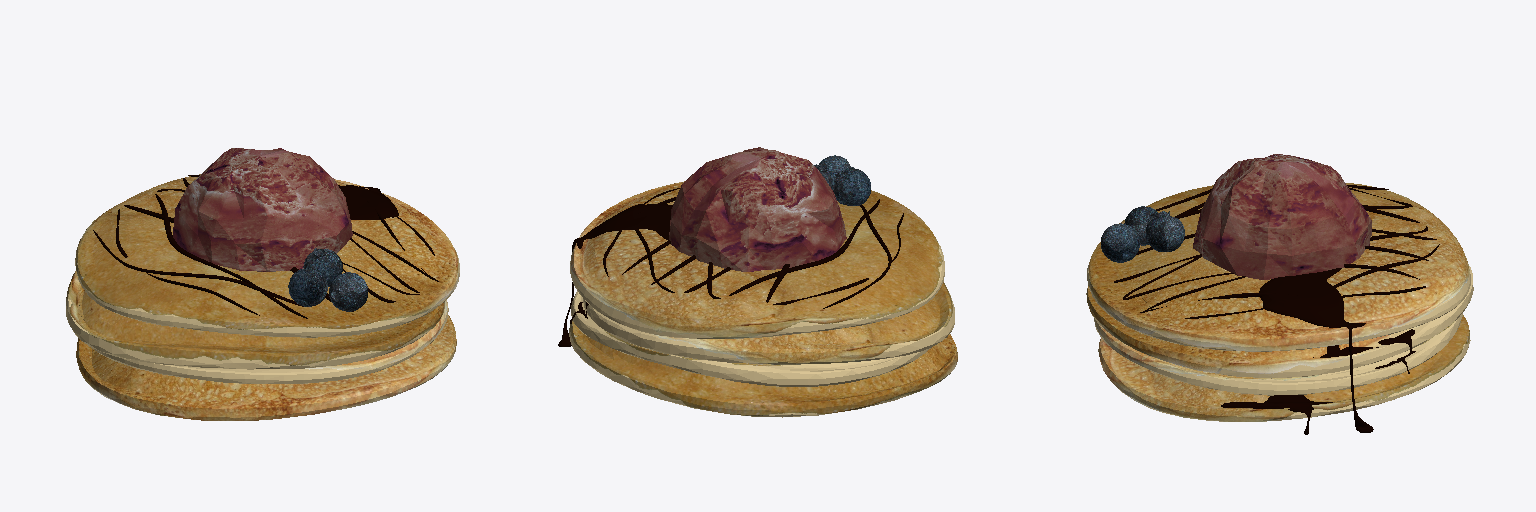
3 renders of one model, left to right at view 1: azimuth 30°, elevation 25°; view 2: azimuth 150°, elevation 25°; view 3: azimuth 270°, elevation 25°, orthographic.
Parts seen in each view (by area): view 1: Sphere.016, Sphere129, Sphere.013, Sphere.015, Sphere.014, Plane_Plane.002, Plane.004, Sphere.005_Sphere.001_Sphere.005_Sphere.005, Sphere.005_Sphere.001_Sphere.005_Sphere.000, Sphere.005_Sphere.001_Sphere.005_Sphere.001; view 2: Sphere.016, Sphere129, Sphere.013, Sphere.015, Sphere.014, Plane_Plane.002, Plane.004, Sphere.005_Sphere.001_Sphere.005_Sphere.005; view 3: Sphere.016, Sphere129, Sphere.013, Sphere.015, Sphere.014, Plane.004, Plane_Plane.002, Sphere.005_Sphere.001_Sphere.005_Sphere.000, Sphere.005_Sphere.001_Sphere.005_Sphere.001, Cylinder.009, Sphere.005_Sphere.001_Sphere.005_Sphere.005.
Part boxes in pixels (x1,y1,x2,y2): Sphere.016: (75, 174, 459, 337); Sphere129: (173, 148, 352, 271); Sphere.013: (76, 315, 456, 420); Sphere.015: (66, 271, 444, 369); Sphere.014: (92, 300, 448, 383); Plane_Plane.002: (93, 175, 438, 318); Plane.004: (339, 185, 398, 219); Sphere.005_Sphere.001_Sphere.005_Sphere.005: (288, 265, 327, 306); Sphere.005_Sphere.001_Sphere.005_Sphere.000: (329, 272, 367, 311); Sphere.005_Sphere.001_Sphere.005_Sphere.001: (303, 248, 342, 286); Sphere.016: (570, 181, 944, 338); Sphere129: (669, 147, 846, 271); Sphere.013: (569, 320, 957, 417); Sphere.015: (583, 282, 954, 364); Sphere.014: (571, 291, 930, 386); Plane_Plane.002: (603, 188, 903, 308); Plane.004: (558, 204, 672, 346); Sphere.005_Sphere.001_Sphere.005_Sphere.005: (834, 168, 870, 205); Sphere.016: (1087, 183, 1470, 351); Sphere129: (1193, 154, 1371, 279); Sphere.013: (1098, 315, 1470, 421); Sphere.015: (1086, 266, 1473, 378); Sphere.014: (1094, 313, 1462, 395); Plane.004: (1259, 268, 1373, 432); Plane_Plane.002: (1114, 185, 1439, 318); Sphere.005_Sphere.001_Sphere.005_Sphere.000: (1101, 223, 1139, 262); Sphere.005_Sphere.001_Sphere.005_Sphere.001: (1146, 211, 1184, 251); Cylinder.009: (1221, 395, 1332, 434); Sphere.005_Sphere.001_Sphere.005_Sphere.005: (1124, 206, 1156, 245).
Size of the model in its own units: 6.83 by 3.63 by 6.56.
Materials: 6 (3 with a texture image).